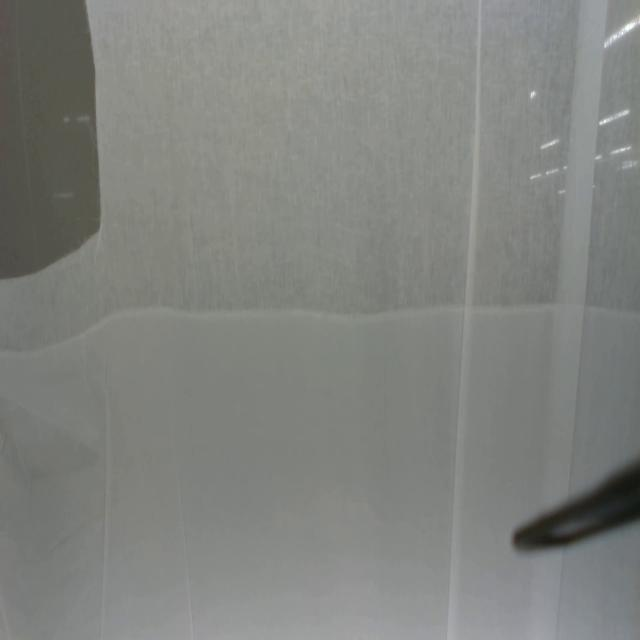crease: (548, 0, 612, 494), (444, 0, 483, 637), (96, 388, 114, 640), (175, 470, 194, 640)
hole: (0, 0, 102, 284)
